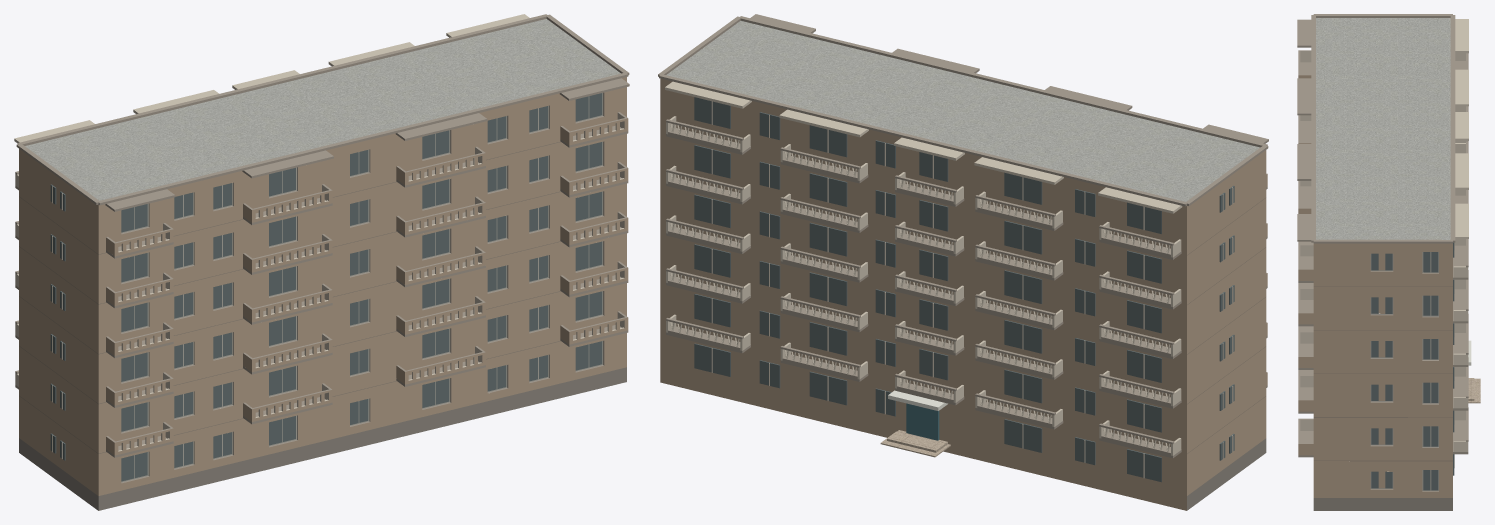
File: chunk-dorm-way-759147055.glb
3 views of the same model, side by side, from view 1: azimuth 30°, elevation 25°; view 2: azimuth 150°, elevation 25°; view 3: azimuth 270°, elevation 25° (orthographic). The views are drawn at different scales.
Visible parts, largest first — view 1: chunk-dorm-way-759147055; view 2: chunk-dorm-way-759147055; view 3: chunk-dorm-way-759147055.
Boxes of the visible parts, x1,y1,x2,y2 form: chunk-dorm-way-759147055: (14, 14, 629, 510); chunk-dorm-way-759147055: (658, 14, 1268, 510); chunk-dorm-way-759147055: (1297, 14, 1480, 510).
Bounding box in the file's own units: 36.96 × 20.45 × 12.59.
11 materials, 2 textured.
